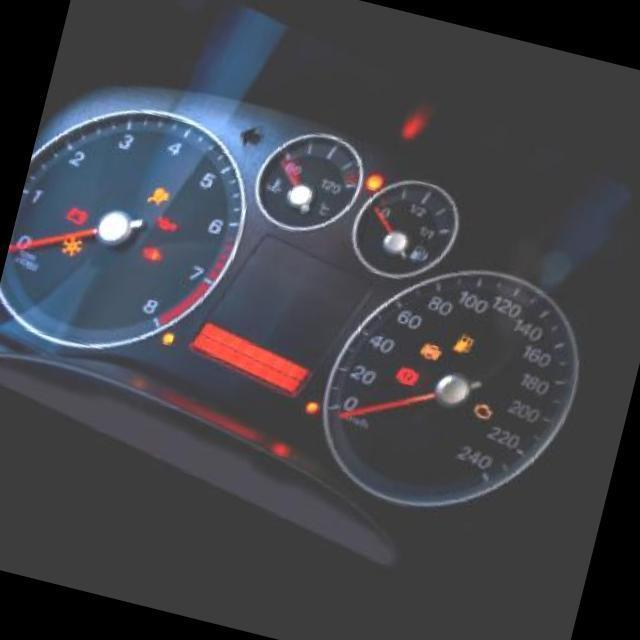Low fuel level: (452, 341, 480, 370)
